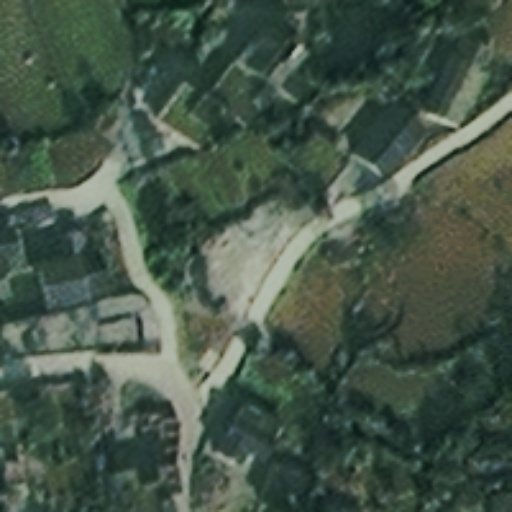landslide: (199, 196, 318, 318)
